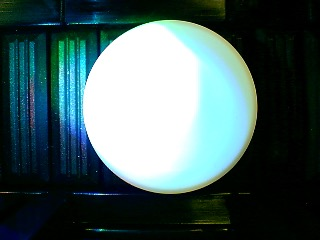BLANK: (81, 20, 258, 194)
